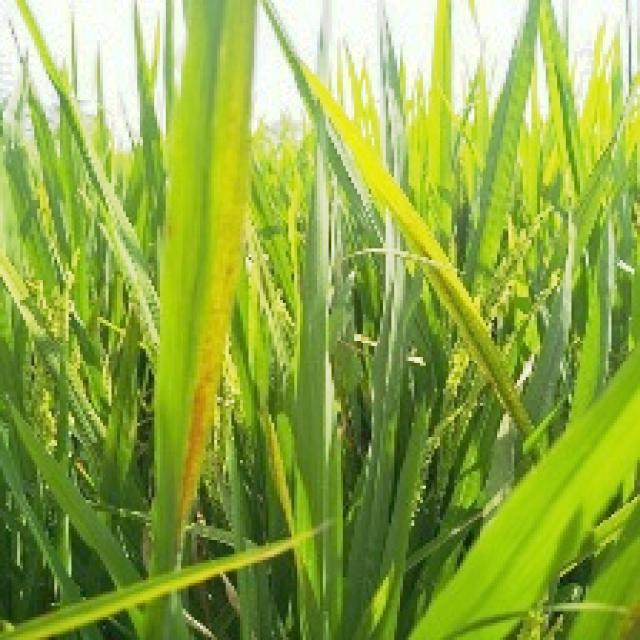health: (288, 37, 640, 640)
